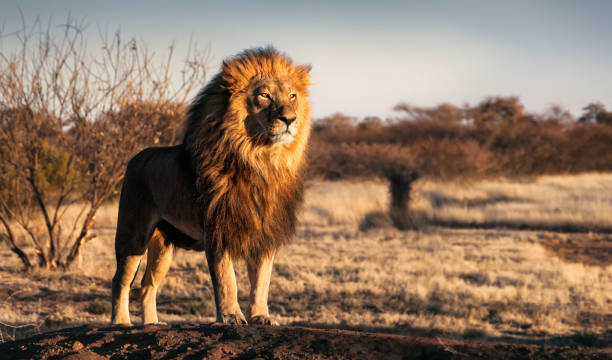lion: (166, 33, 334, 281)
